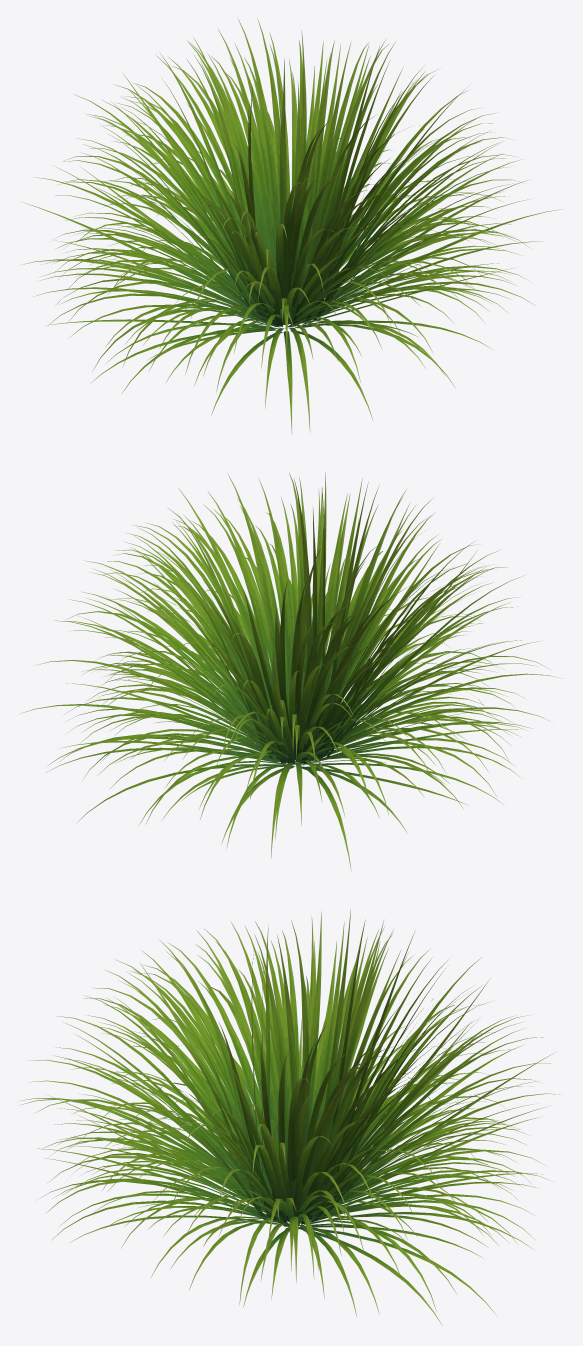
Rendered from lemongrass.glb.
3 renders of one model, top to bottom at view 1: azimuth 30°, elevation 25°; view 2: azimuth 150°, elevation 25°; view 3: azimuth 270°, elevation 25°, orthographic. The views are drawn at different scales.
Visible parts, largest first — view 1: LOD0; view 2: LOD0; view 3: LOD0.
Part boxes in pixels (left/top/right/bottom): LOD0: left=21, top=19, right=560, bottom=432; LOD0: left=20, top=472, right=557, bottom=870; LOD0: left=21, top=910, right=559, bottom=1325.
Size of what is drawn, in the model's own units: 0.1105 by 0.0686 by 0.1062.
1 material, 1 textured.
